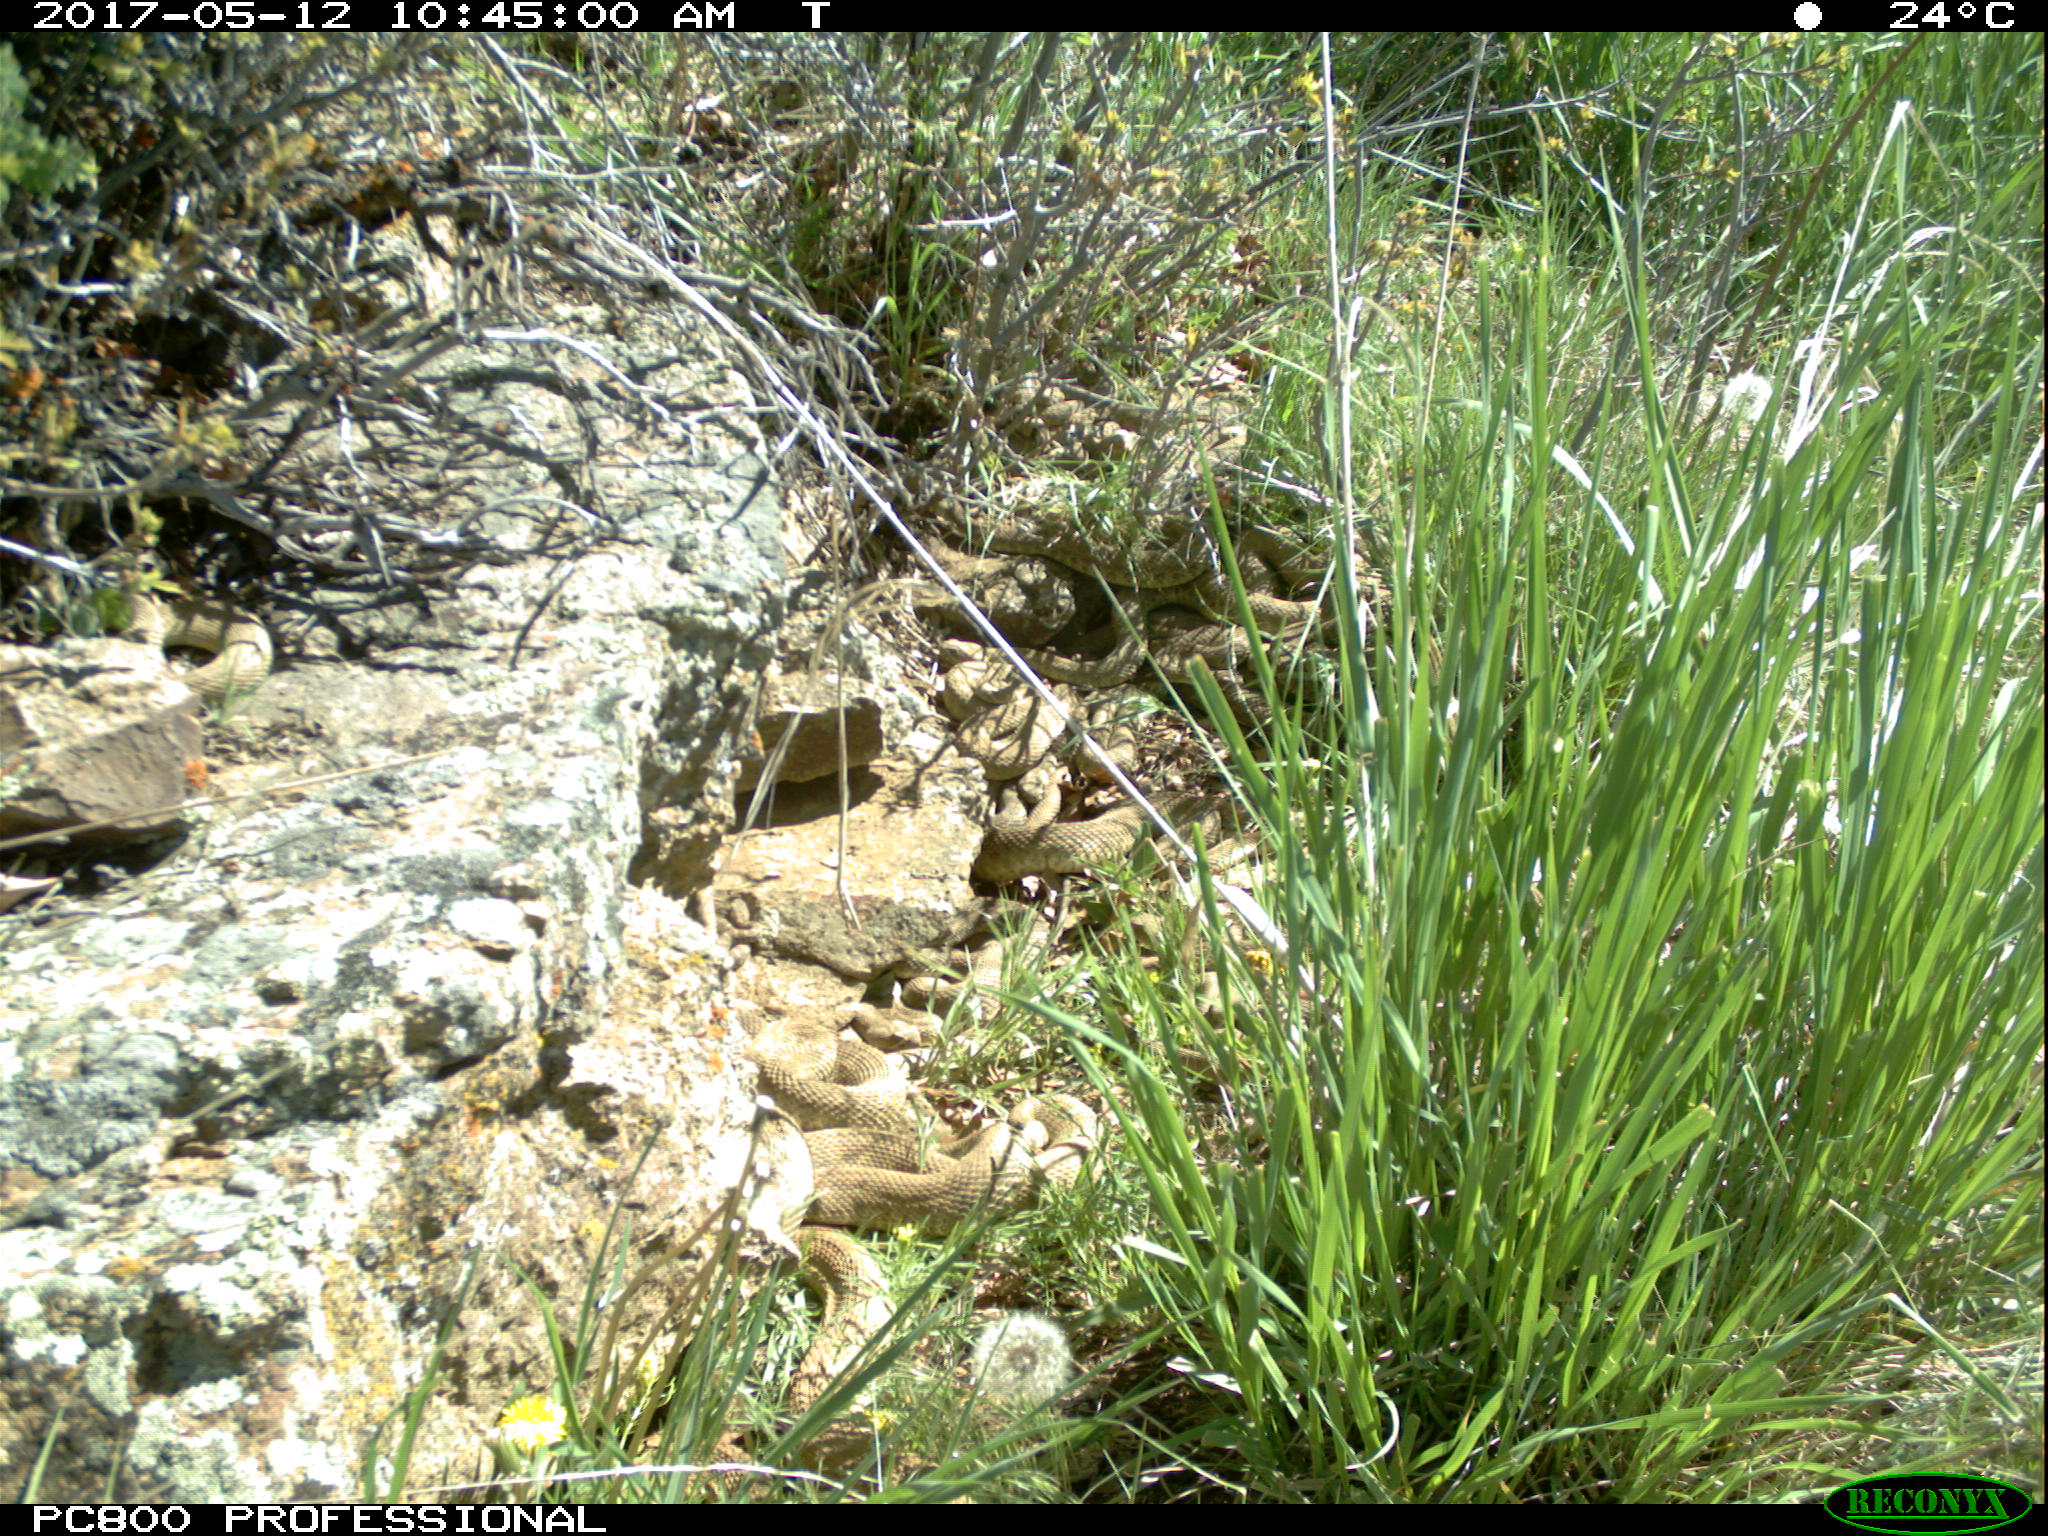snake: (797, 1094, 1109, 1225), (980, 792, 1285, 892), (724, 1002, 918, 1129), (784, 1231, 893, 1439), (1114, 574, 1335, 665), (930, 637, 1069, 758), (131, 599, 276, 702)
